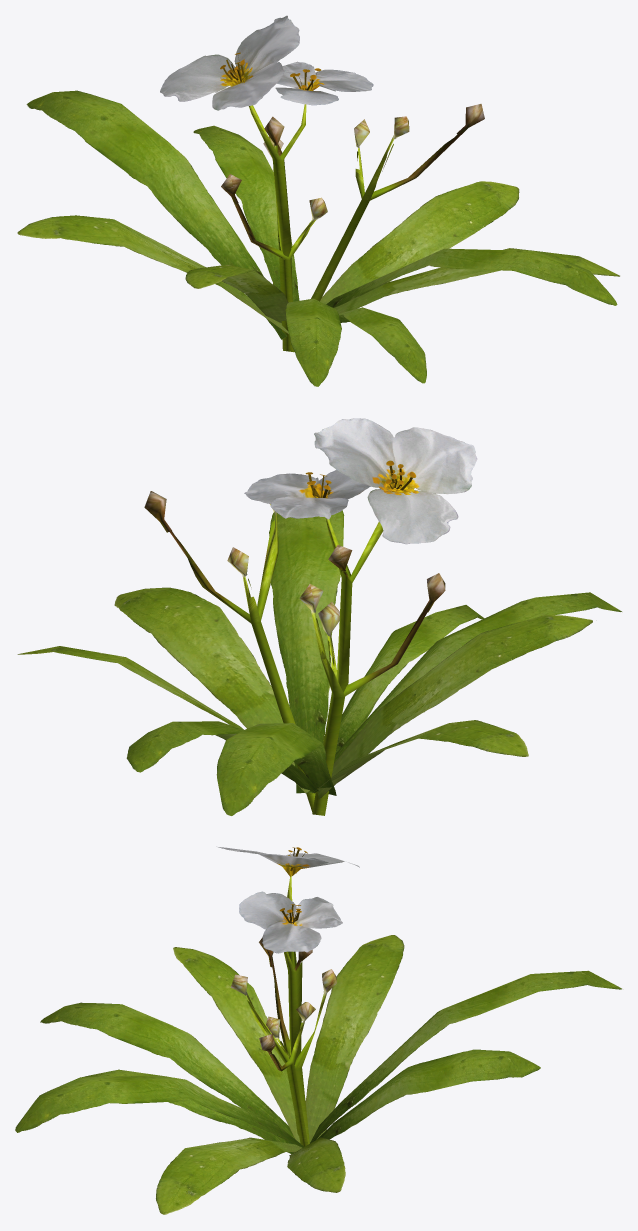
The model's file is Urikawa_LOD2.fbx.
The picture shows the model from 3 angles, top to bottom: view 1: azimuth 30°, elevation 25°; view 2: azimuth 150°, elevation 25°; view 3: azimuth 270°, elevation 25°; orthographic projection. The views are drawn at different scales.
Parts seen in each view (by area): view 1: polySurface880__urikawa_m; view 2: polySurface880__urikawa_m; view 3: polySurface880__urikawa_m.
Part boxes in pixels (x1,y1,x2,y2): polySurface880__urikawa_m: [17, 15, 619, 386]; polySurface880__urikawa_m: [17, 418, 621, 815]; polySurface880__urikawa_m: [15, 846, 621, 1214].
Size of the model in its own units: 15403 by 10158 by 18159.
